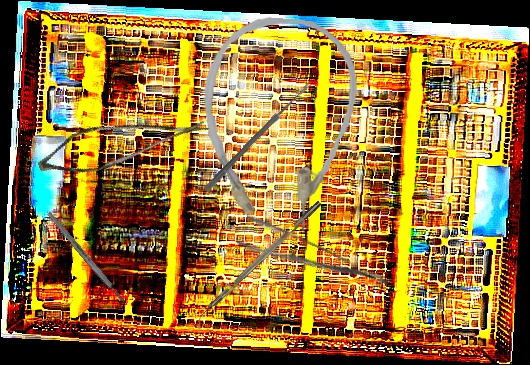Cannula: (191, 12, 365, 235)
Chopper: (190, 200, 328, 330)
Dressing Forceps: (233, 211, 392, 311)
Micro Scissor: (32, 80, 212, 202)
Scalpel Handle: (46, 210, 127, 305)
Surgical Spoon: (203, 80, 313, 193)
